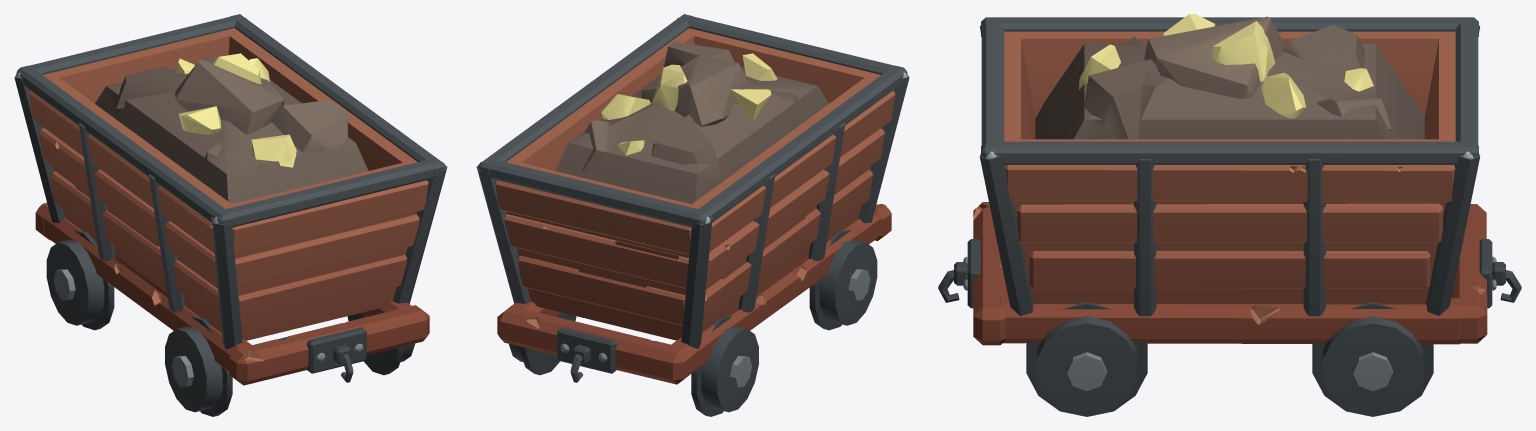
The model's file is mine_cart_ore.glb.
3 views of the same model, side by side, from view 1: azimuth 30°, elevation 25°; view 2: azimuth 150°, elevation 25°; view 3: azimuth 270°, elevation 25° (orthographic). The views are drawn at different scales.
Parts seen in each view (by area): view 1: mine_cart_ore; view 2: mine_cart_ore; view 3: mine_cart_ore.
Boxes of the visible parts, x1,y1,x2,y2 form: mine_cart_ore: (14,14,447,416); mine_cart_ore: (476,14,909,416); mine_cart_ore: (938,14,1521,416).
Bounding box in the file's own units: 1.23 × 1.43 × 2.2.
Materials: 1 (1 with a texture image).
